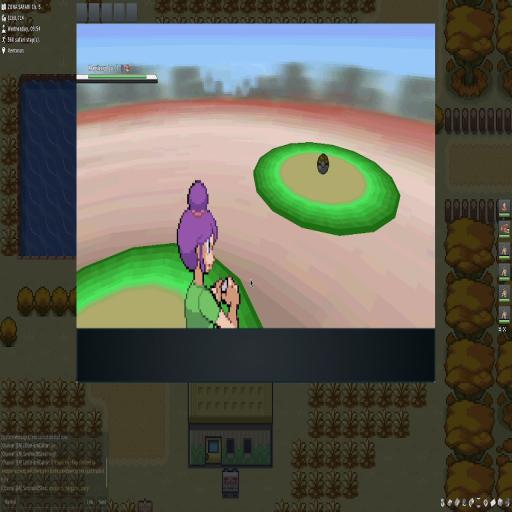SUCESSFULCAPTURE: (317, 153, 330, 175)
